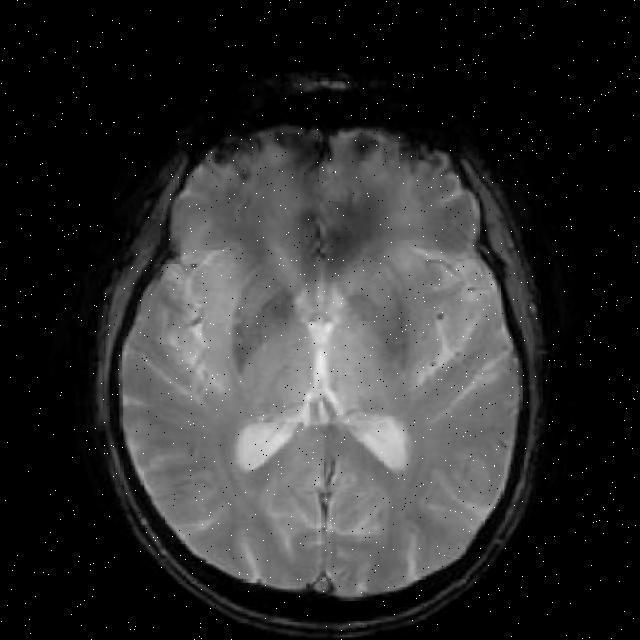EMCI: (276, 182, 358, 266), (219, 292, 273, 356)
